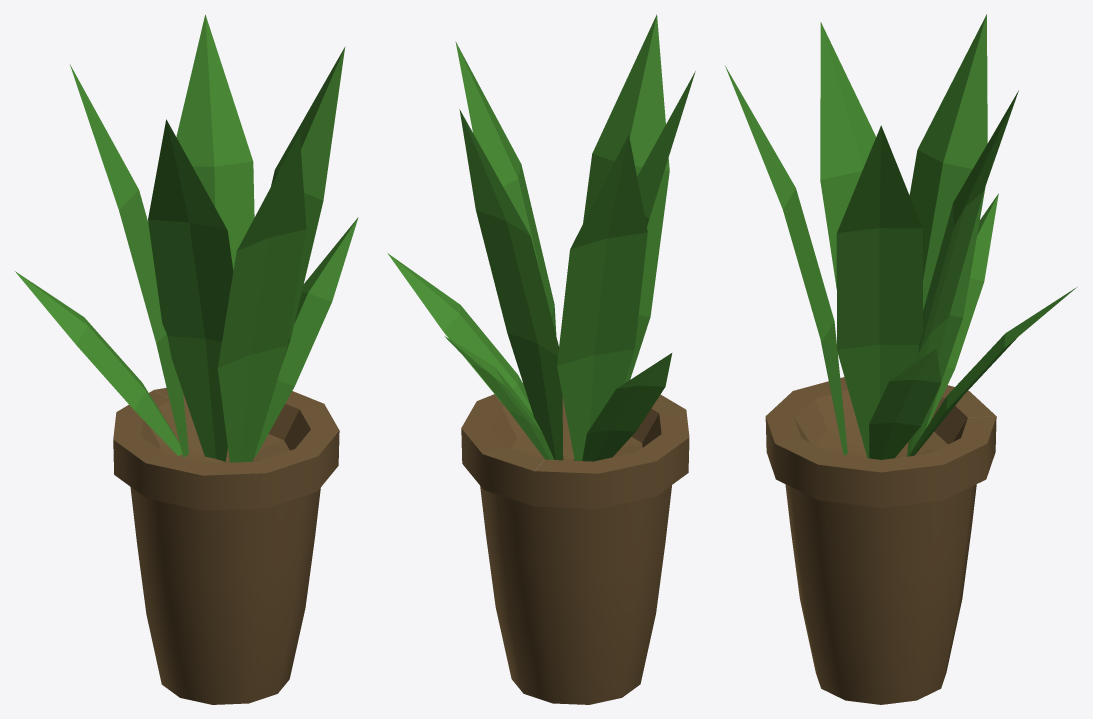
Rendered from Pot_1.FBX.
3 renders of one model, left to right at view 1: azimuth 30°, elevation 25°; view 2: azimuth 150°, elevation 25°; view 3: azimuth 270°, elevation 25°, orthographic.
Parts seen in each view (by area): view 1: Cylinder001; view 2: Cylinder001; view 3: Cylinder001.
Boxes of the visible parts, <box> form: Cylinder001: <box>15,14,358,704</box>; Cylinder001: <box>387,14,695,704</box>; Cylinder001: <box>725,14,1076,704</box>.
Size of the model in its own units: 32.06 by 58.81 by 30.86.
1 material, 1 textured.
